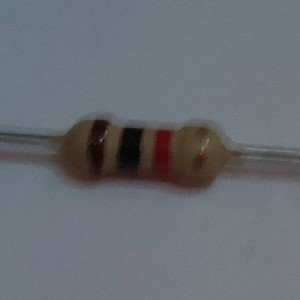black_band: (114, 125, 146, 175)
brown_band: (85, 117, 111, 178)
gold_band: (190, 123, 212, 187)
red_band: (150, 126, 175, 181)
